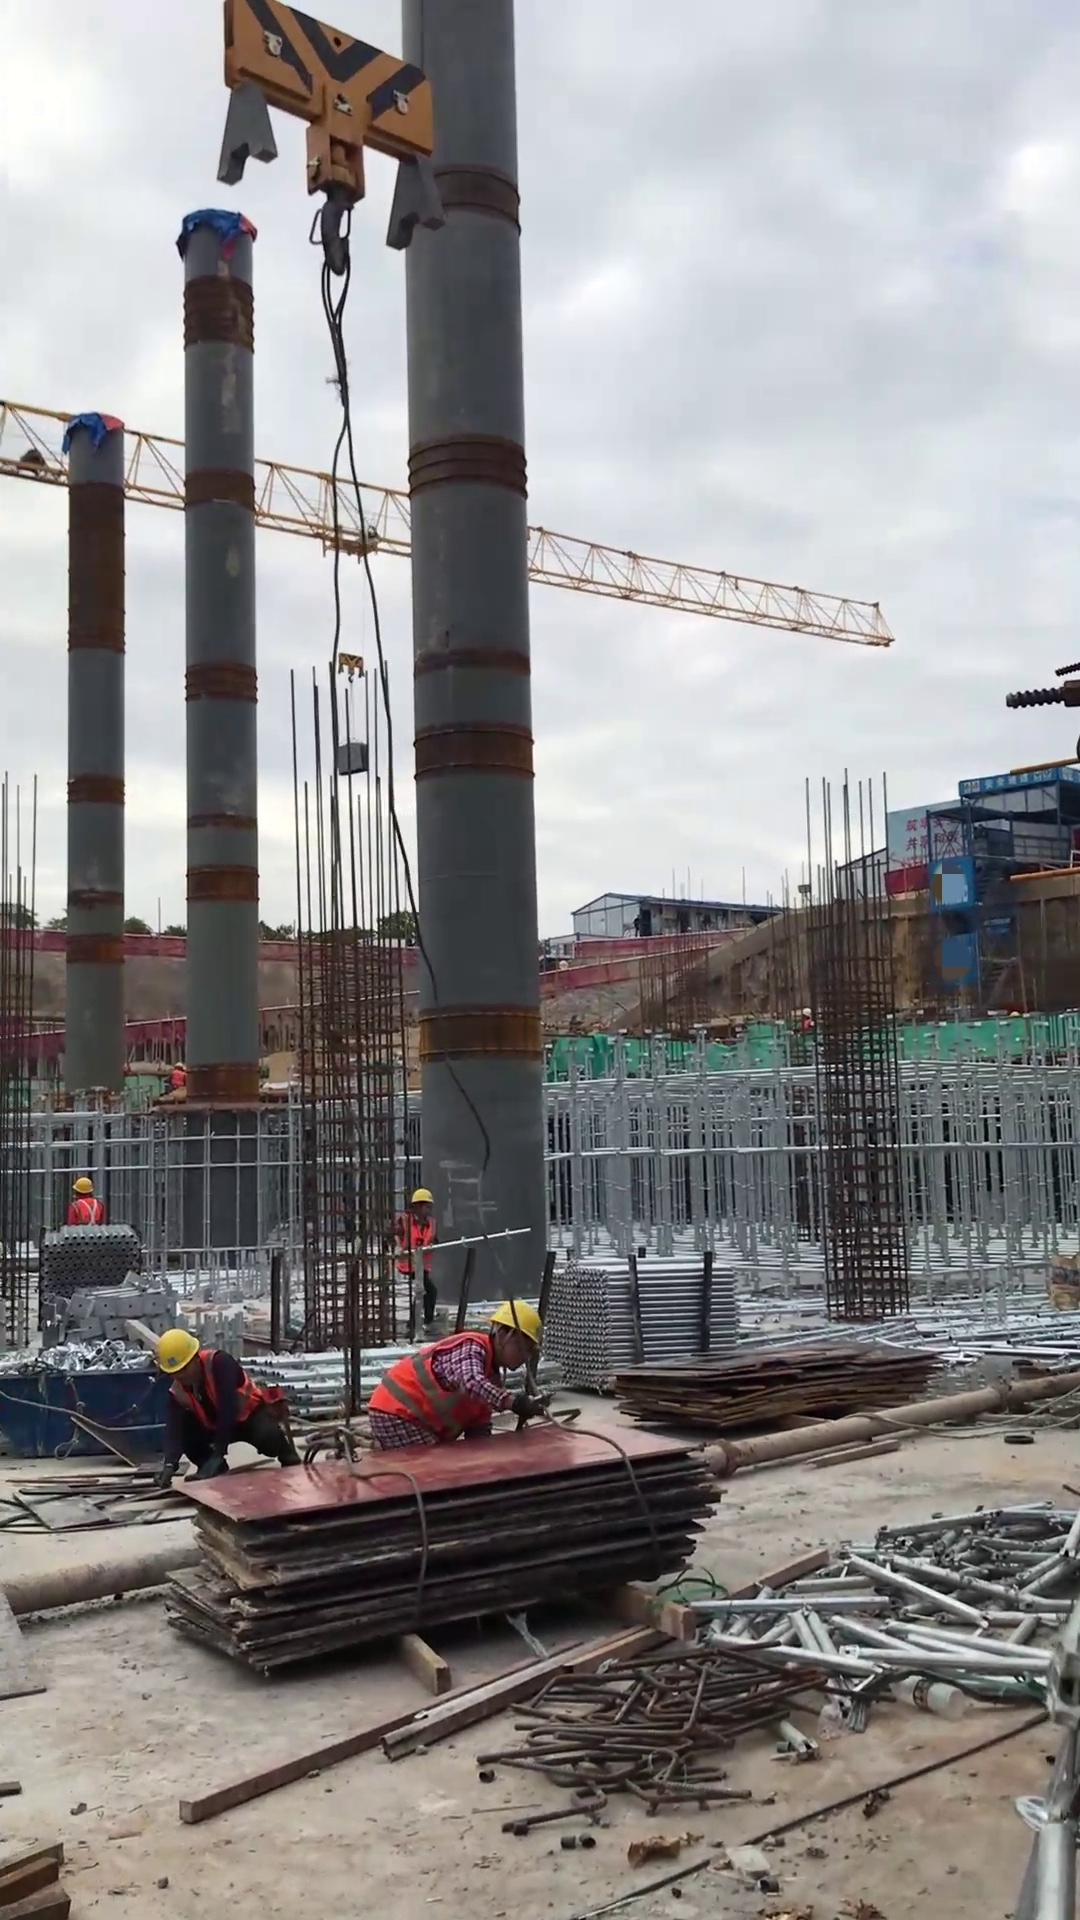helmet: (488, 1298, 547, 1351), (154, 1327, 201, 1375), (409, 1186, 436, 1206), (70, 1176, 96, 1196), (801, 1005, 812, 1018), (174, 1061, 185, 1071)
person: (366, 1297, 546, 1453), (153, 1325, 304, 1490), (391, 1183, 441, 1340), (66, 1175, 104, 1227), (168, 1061, 188, 1092)
vest: (366, 1329, 499, 1442), (168, 1349, 261, 1432), (395, 1211, 436, 1273), (72, 1195, 102, 1225), (169, 1067, 187, 1088)
